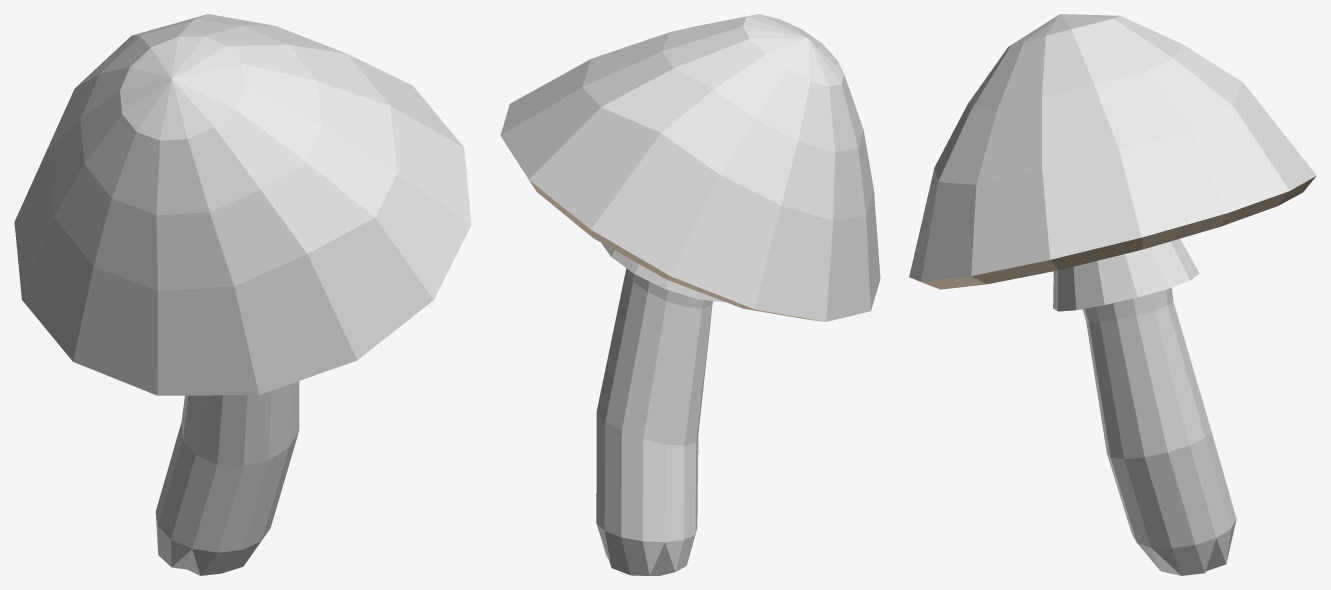
Rendered from Shroom2.fbx.
3 views of the same model, side by side, from view 1: azimuth 30°, elevation 25°; view 2: azimuth 150°, elevation 25°; view 3: azimuth 270°, elevation 25° (orthographic). The views are drawn at different scales.
Parts seen in each view (by area): view 1: Circle.001; view 2: Circle.001; view 3: Circle.001.
Boxes of the visible parts, x1,y1,x2,y2 form: Circle.001: [14, 14, 471, 575]; Circle.001: [500, 14, 880, 575]; Circle.001: [909, 14, 1316, 575].
Size of the model in its own units: 10.66 by 15.9 by 11.3.
